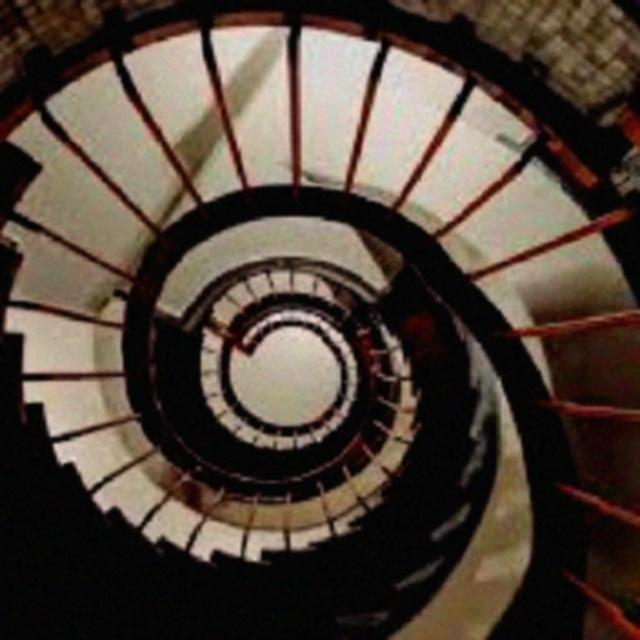stair: (0, 103, 617, 637)
